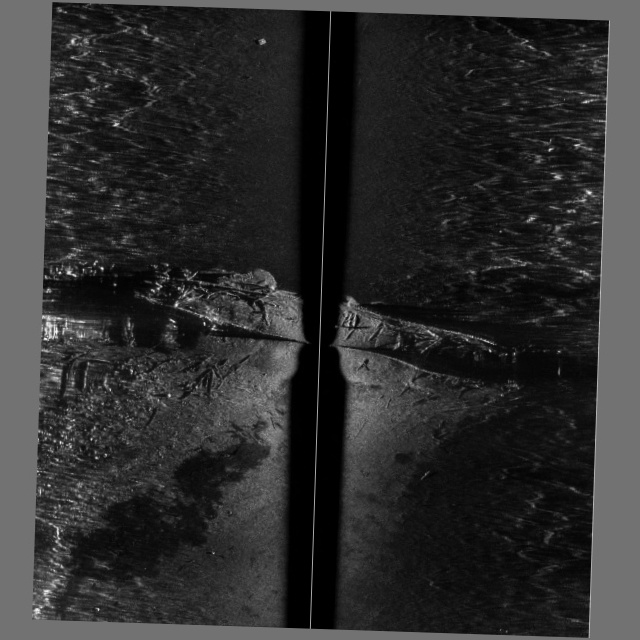Shipwreck: (79, 266, 524, 484)
